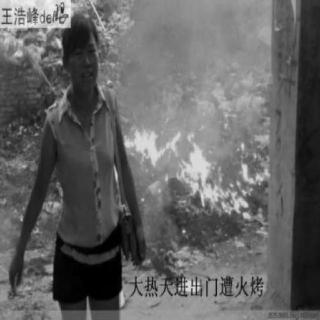Fire: (120, 87, 274, 224)
